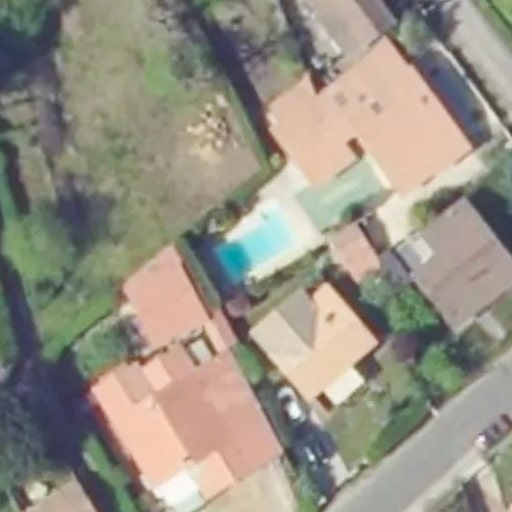pool: (209, 210, 299, 276)
